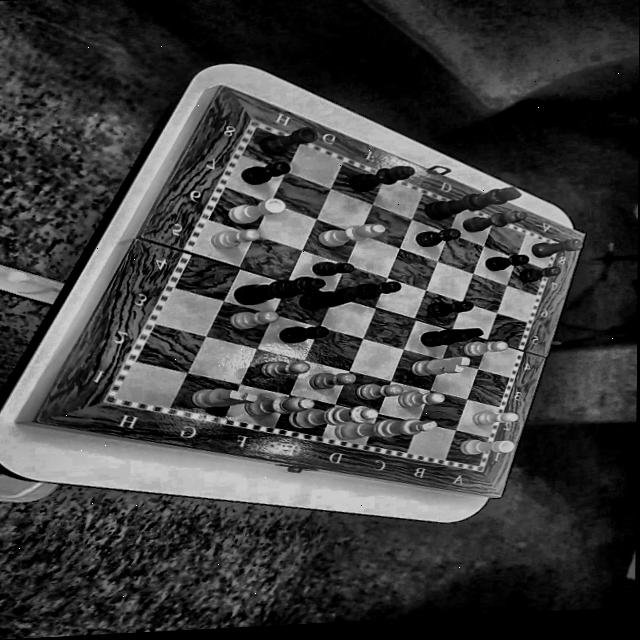chessboard: (116, 127, 556, 465)
